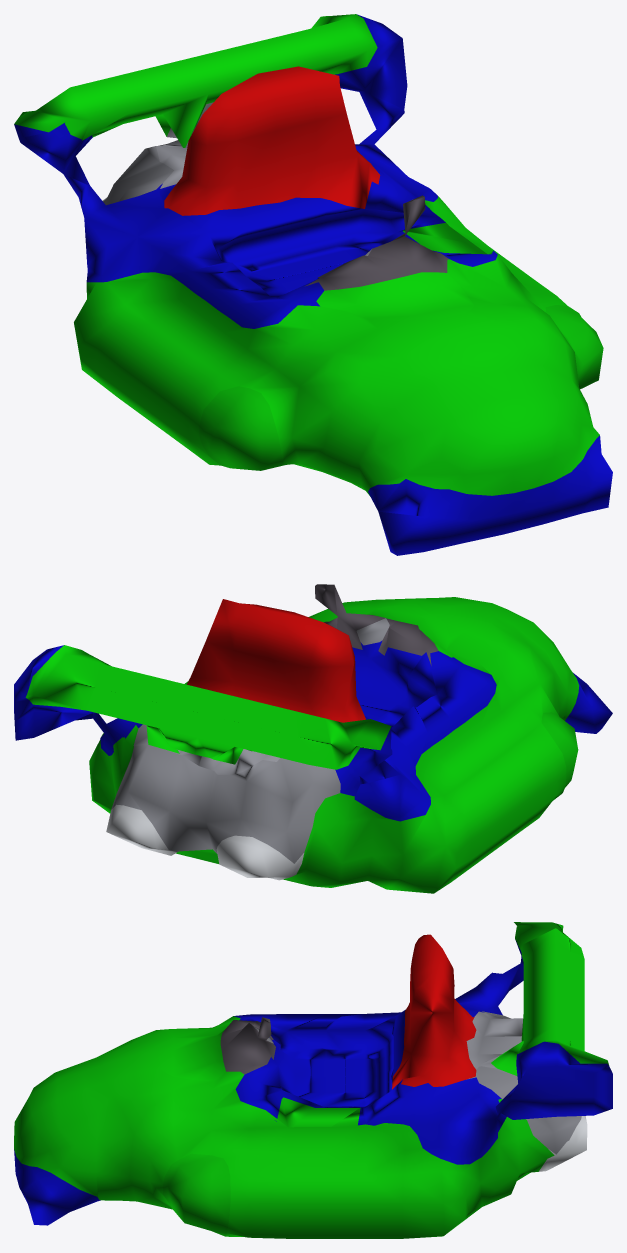
Rendered from body_royal_lo.glb.
3 renders of one model, top to bottom at view 1: azimuth 30°, elevation 25°; view 2: azimuth 150°, elevation 25°; view 3: azimuth 270°, elevation 25°, orthographic. The views are drawn at different scales.
Visible parts, largest first — view 1: body_royal_lo; view 2: body_royal_lo; view 3: body_royal_lo.
Boxes of the visible parts, box(x1,y1,x2,y2) form: body_royal_lo: box(14, 14, 612, 555); body_royal_lo: box(14, 584, 612, 893); body_royal_lo: box(14, 922, 612, 1238).
Size of the model in its own units: 28.4 by 19.69 by 45.64.
